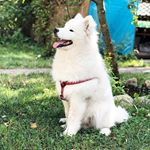puppy: (44, 11, 134, 141)
